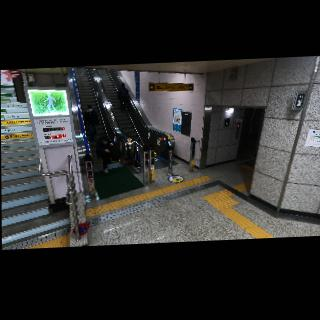anomaly: (96, 134, 119, 176)
normal: (83, 103, 99, 145), (116, 82, 130, 115)
